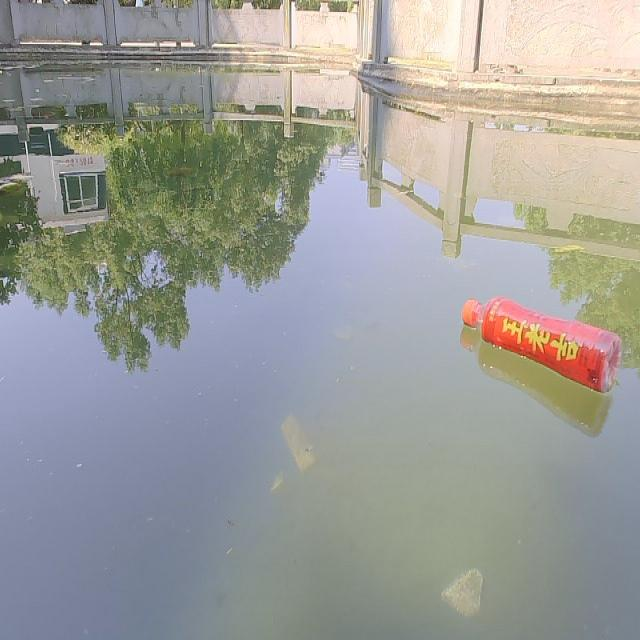Bottle: (459, 291, 623, 393)
